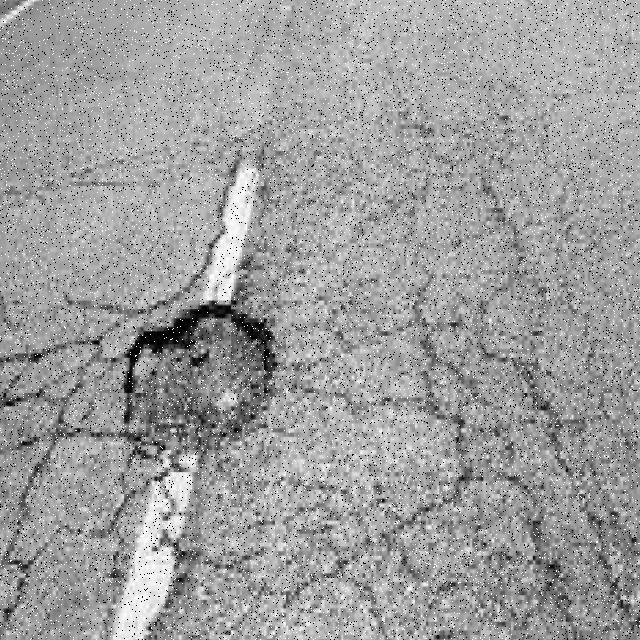pothole: (124, 305, 272, 459)
